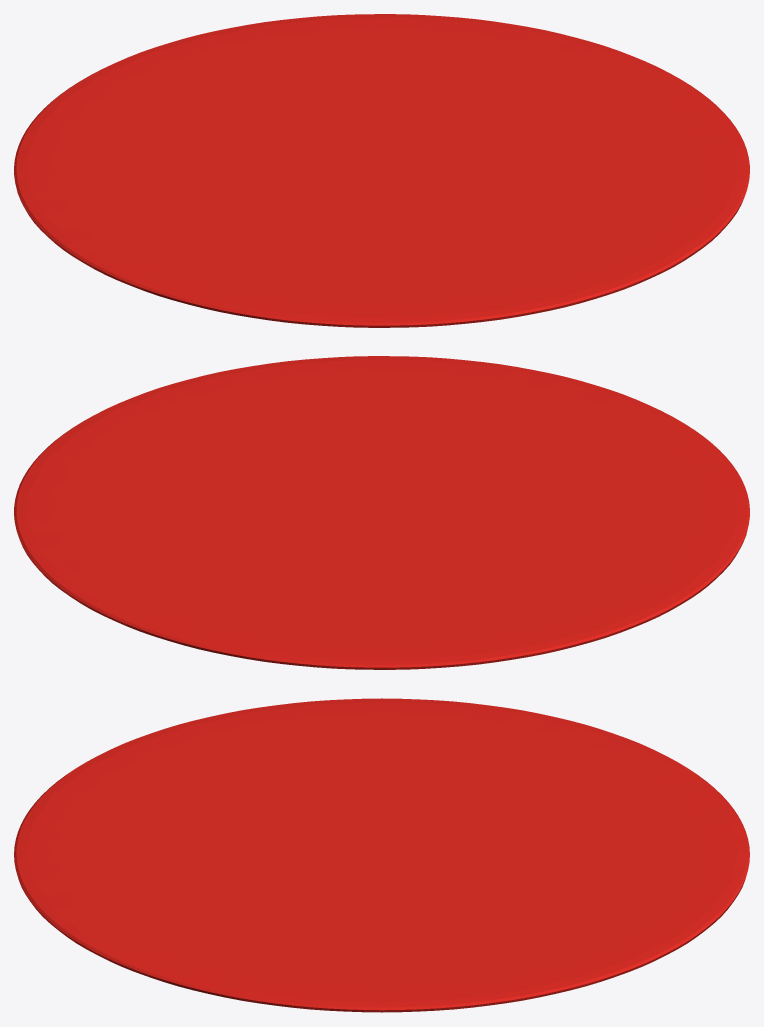
File: M_TapisRondRouge.fbx
3 renders of one model, top to bottom at view 1: azimuth 30°, elevation 25°; view 2: azimuth 150°, elevation 25°; view 3: azimuth 270°, elevation 25°, orthographic.
Parts seen in each view (by area): view 1: Cylindre; view 2: Cylindre; view 3: Cylindre.
Boxes of the visible parts, bbox=[...] form: Cylindre: bbox=[14, 14, 749, 327]; Cylindre: bbox=[14, 356, 749, 669]; Cylindre: bbox=[14, 698, 749, 1012].
Bounding box in the file's own units: 792 × 19.69 × 792.
